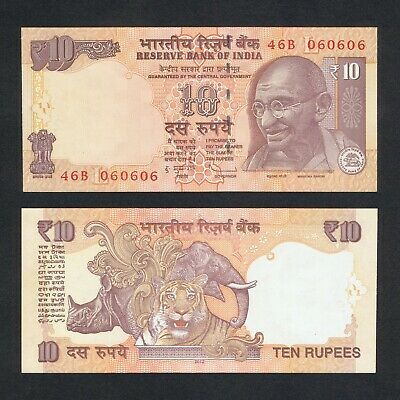ten_rupees_note: (20, 207, 377, 376), (21, 26, 380, 194)
